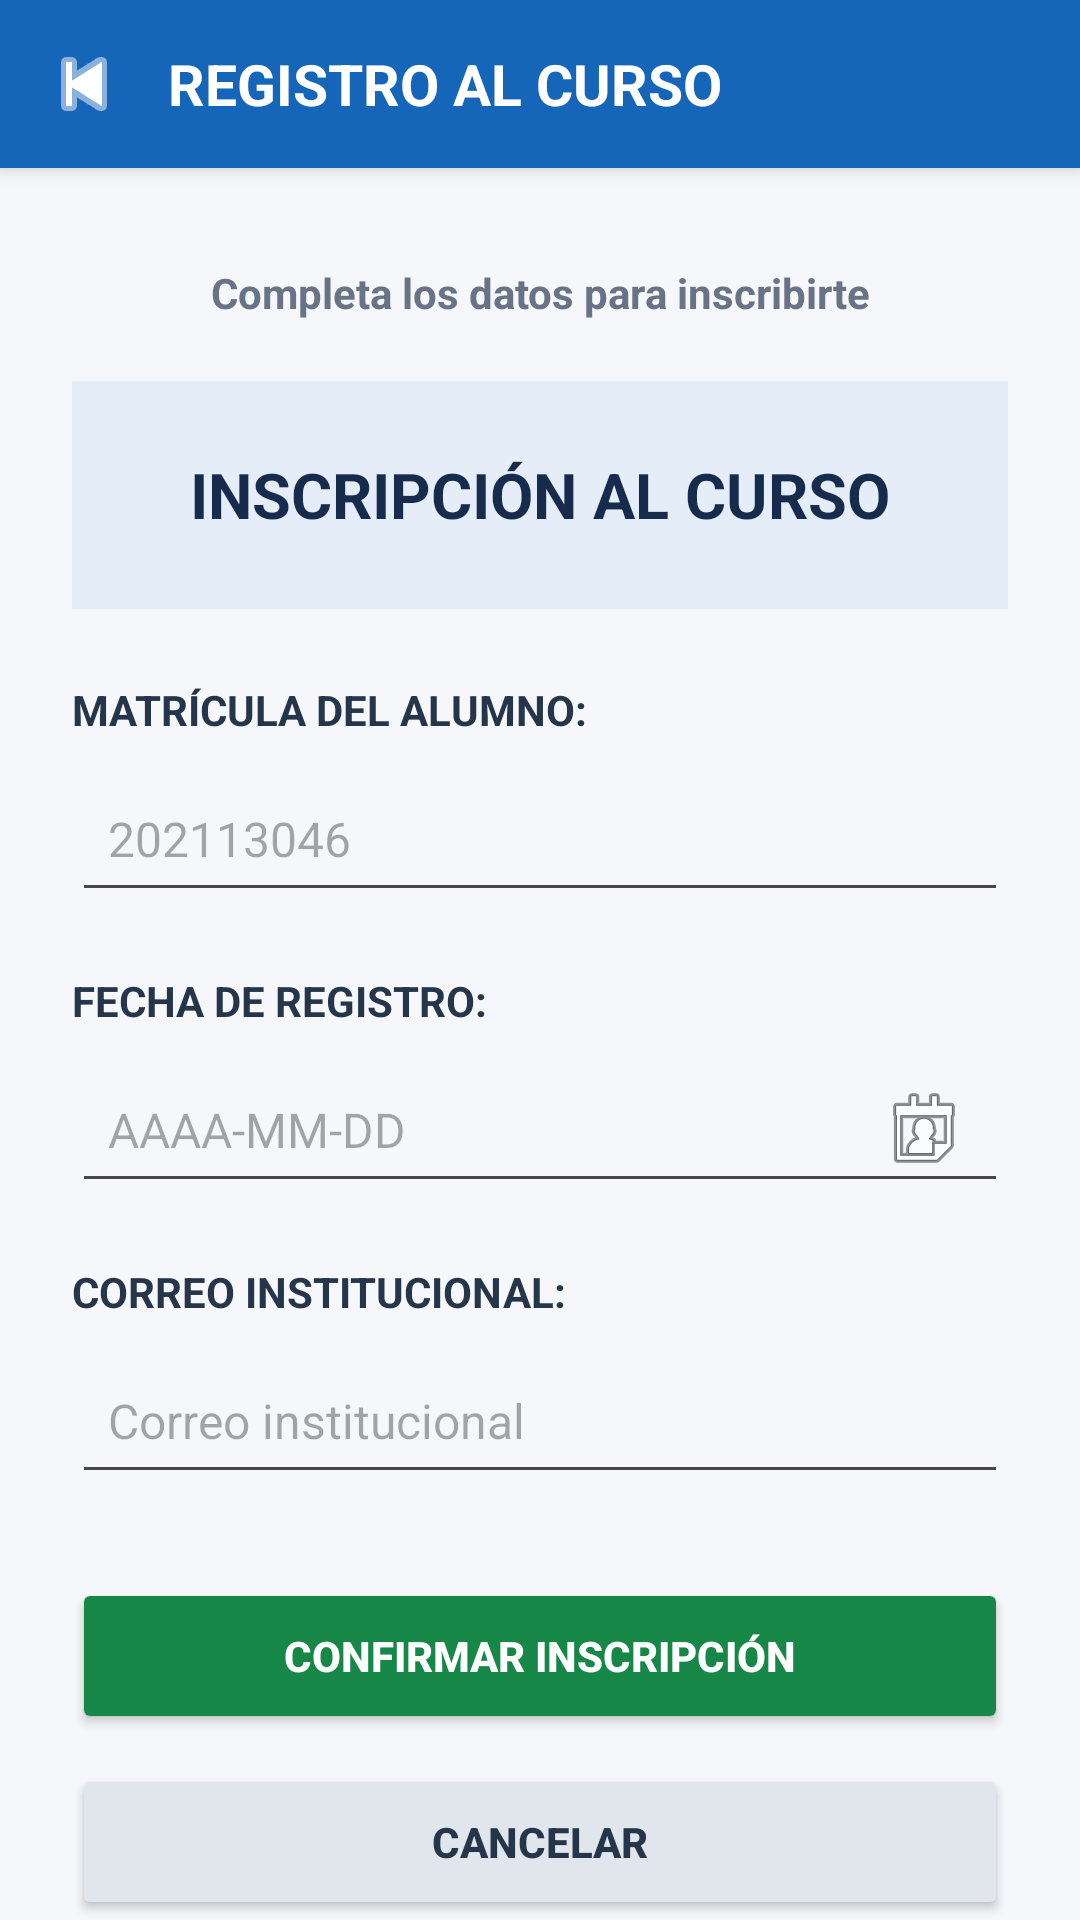

Screen size 1080px x 1920px. Icon name, then its box in pixels as (x1, y1, x2, y2):
Regresar: (61, 57, 107, 111)
